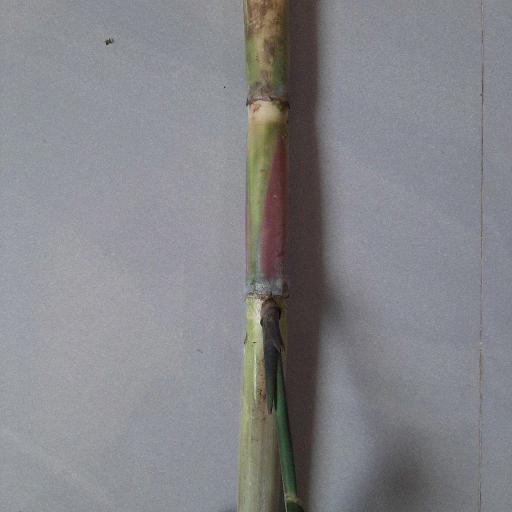Sprouted_Bud: (257, 295, 284, 351)
